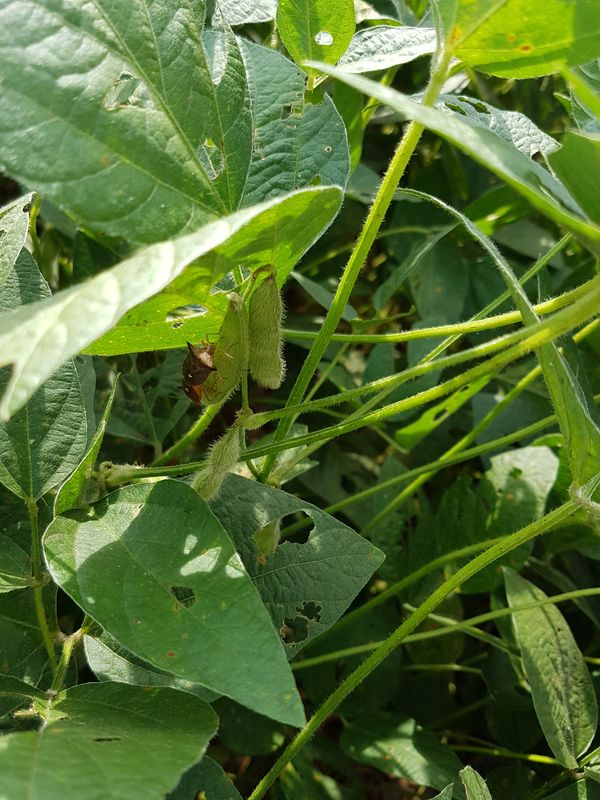Euschistus_heros_adulto: (169, 322, 236, 385), (173, 382, 224, 416)
